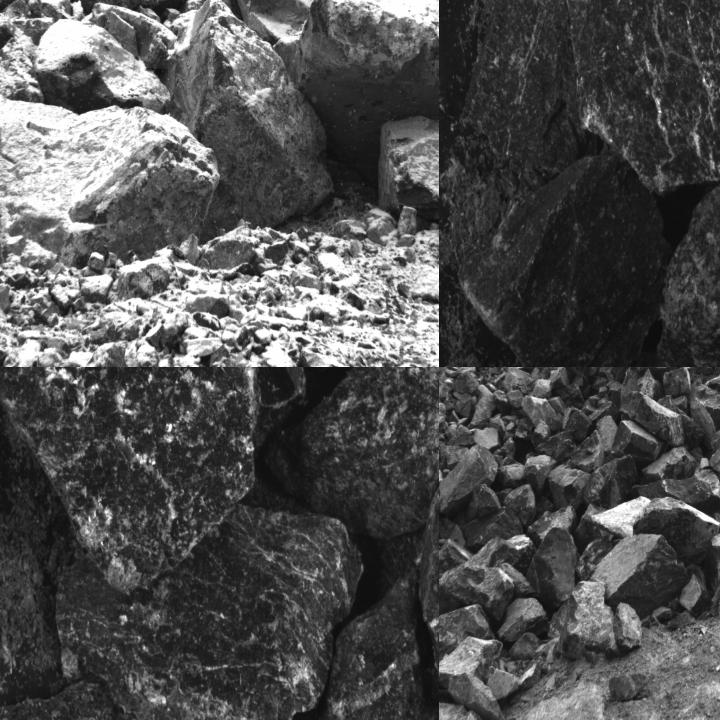stone: (55, 504, 364, 719), (0, 367, 262, 590), (462, 150, 669, 366), (175, 0, 332, 232), (0, 103, 219, 268), (563, 0, 719, 191), (267, 367, 438, 538), (286, 0, 438, 173), (317, 575, 438, 719), (125, 367, 308, 456), (35, 17, 173, 105), (593, 534, 688, 616), (377, 122, 438, 223), (636, 495, 719, 565), (549, 578, 619, 660), (439, 603, 497, 696), (0, 683, 141, 719), (439, 564, 516, 623), (440, 445, 499, 519), (526, 530, 576, 606), (634, 469, 719, 513), (439, 635, 505, 691), (228, 0, 314, 41), (581, 454, 639, 511), (622, 394, 686, 445), (609, 417, 666, 466), (460, 507, 522, 552), (446, 675, 506, 719), (496, 597, 549, 642), (642, 446, 697, 482), (548, 464, 588, 510), (690, 381, 719, 441), (678, 573, 713, 617), (503, 482, 536, 528), (613, 602, 642, 652), (522, 454, 556, 496), (81, 335, 127, 366), (522, 394, 562, 429), (569, 431, 603, 471), (609, 671, 650, 701), (561, 407, 590, 441), (662, 367, 692, 396), (562, 367, 603, 383), (709, 421, 719, 480), (554, 440, 578, 464), (530, 421, 551, 446), (439, 403, 447, 430)
